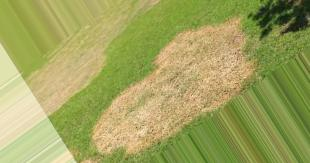patch: (172, 39, 242, 80), (108, 105, 172, 133), (146, 83, 220, 102), (101, 132, 147, 148)
